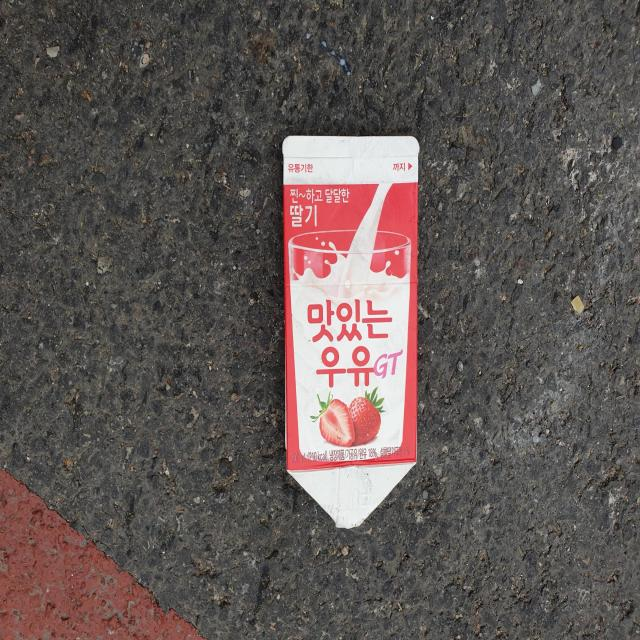paperpack: (283, 136, 420, 527)
